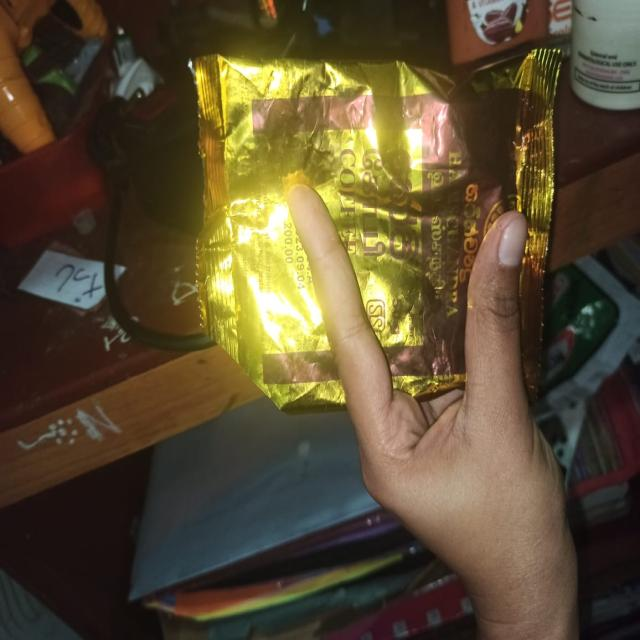Harischandra Coffee: (206, 81, 534, 436)
